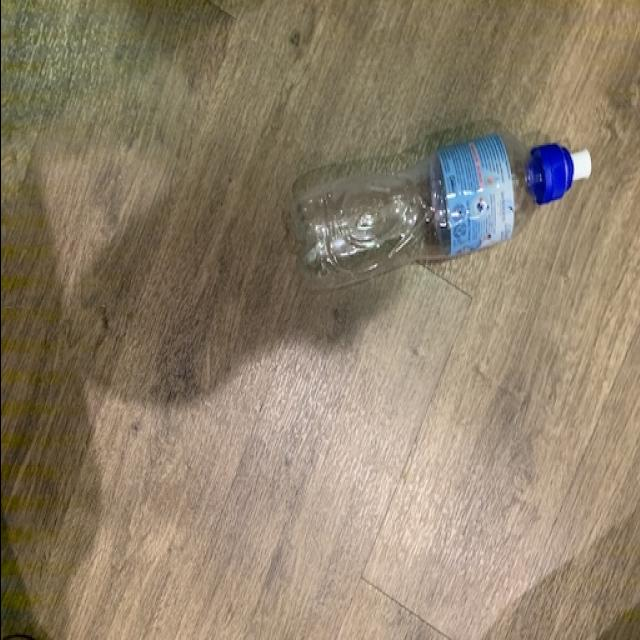PET: (290, 134, 589, 298)
